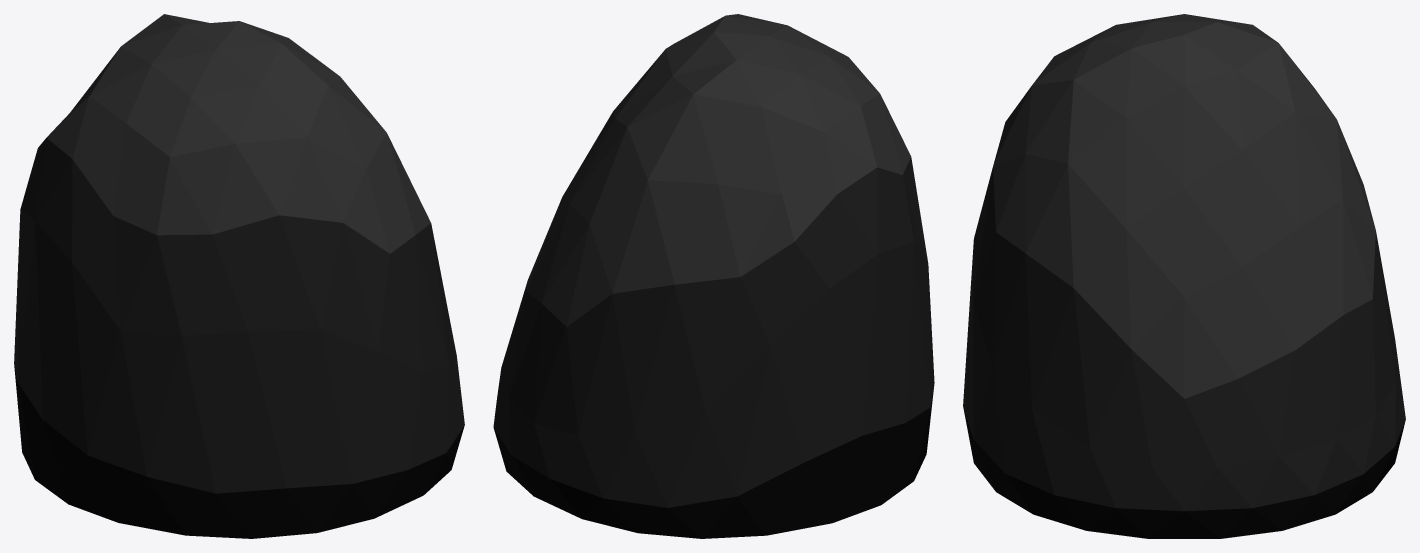
Rendered from basura3.fbx.
3 views of the same model, side by side, from view 1: azimuth 30°, elevation 25°; view 2: azimuth 150°, elevation 25°; view 3: azimuth 270°, elevation 25° (orthographic). The views are drawn at different scales.
Visible parts, largest first — view 1: Basura1; view 2: Basura1; view 3: Basura1.
Part boxes in pixels (<box>): Basura1: <box>14,14,464,538</box>; Basura1: <box>493,14,934,538</box>; Basura1: <box>963,14,1405,538</box>.
Bounding box in the file's own units: 890 × 922 × 890.
1 material, 1 textured.
